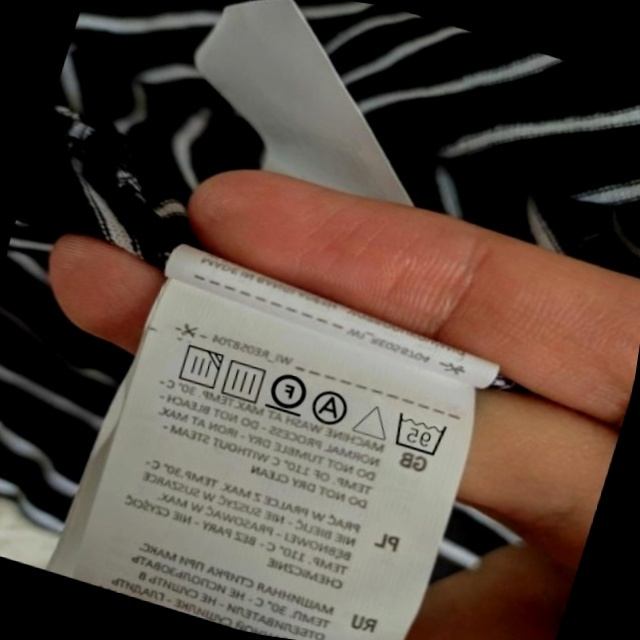95C: (386, 407, 452, 460)
bleach: (351, 395, 396, 445)
drip_dry: (217, 354, 271, 407)
drip_dry_in_shade: (171, 339, 226, 394)
dry_clean: (307, 384, 355, 431)
dry_clean_petrol_only: (263, 364, 313, 419)
